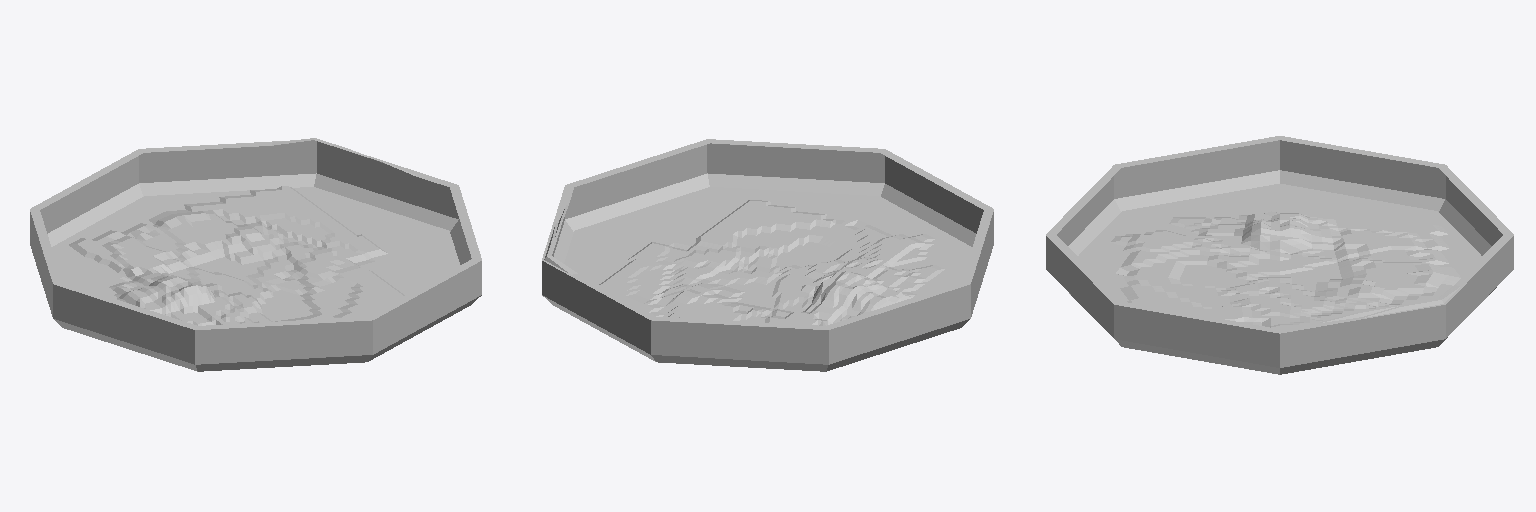
File: Arena7.obj
The picture shows the model from 3 angles: view 1: azimuth 30°, elevation 25°; view 2: azimuth 150°, elevation 25°; view 3: azimuth 270°, elevation 25°; orthographic projection.
Visible parts, largest first — view 1: Mesh; view 2: Mesh; view 3: Mesh.
Part boxes in pixels (x1,y1,x2,y2): Mesh: (30, 138, 481, 371); Mesh: (542, 139, 993, 371); Mesh: (1046, 136, 1513, 374).
Bounding box in the file's own units: 14.13 × 1.64 × 14.13.